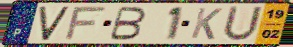1: (166, 6, 186, 41)
B: (107, 6, 148, 42)
F: (62, 5, 110, 42)
K: (188, 7, 224, 41)
U: (220, 5, 265, 43)
V: (38, 5, 72, 42)
